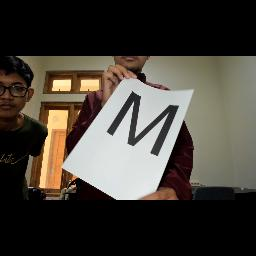m: (96, 78, 182, 160)
